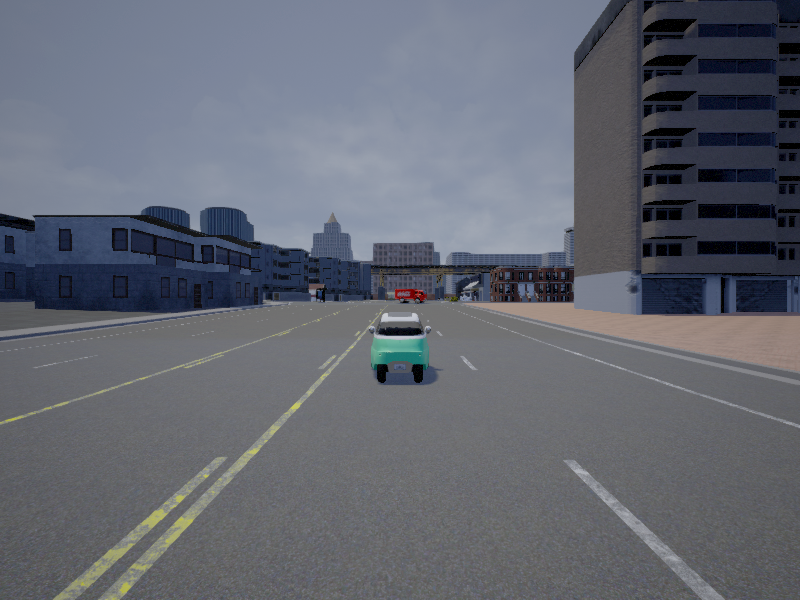Benign: (369, 311, 432, 384), (396, 289, 427, 303)
